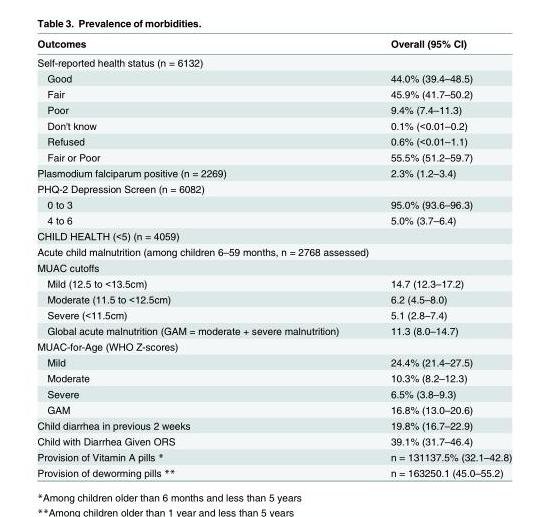table: (36, 37, 511, 478)
table column: (36, 37, 364, 478), (364, 37, 511, 478)
table column header: (36, 37, 511, 52)
table projected row header: (36, 52, 511, 70), (36, 180, 511, 196), (36, 227, 511, 243), (36, 243, 511, 259), (36, 259, 511, 275), (36, 338, 511, 354)
table row: (36, 52, 511, 70), (36, 85, 511, 101), (36, 101, 511, 117), (36, 117, 511, 133), (36, 148, 511, 164), (36, 164, 511, 180), (36, 180, 511, 196), (36, 196, 511, 212), (36, 227, 511, 243), (36, 243, 511, 259), (36, 259, 511, 275), (36, 290, 511, 306), (36, 306, 511, 322), (36, 322, 511, 338), (36, 338, 511, 354), (36, 369, 511, 385), (36, 385, 511, 401), (36, 401, 511, 417), (36, 417, 511, 433), (36, 448, 511, 464), (36, 37, 511, 52), (36, 70, 511, 85), (36, 133, 511, 148), (36, 212, 511, 227), (36, 275, 511, 290), (36, 354, 511, 369), (36, 433, 511, 448), (36, 464, 511, 478)
